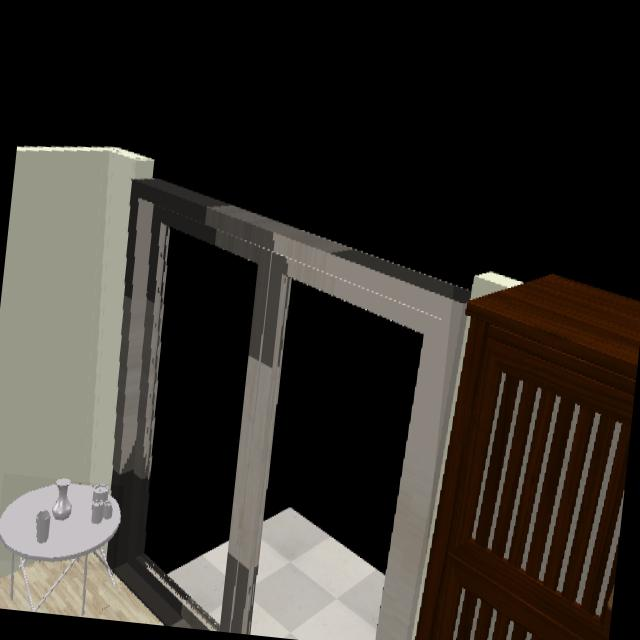table: (0, 479, 121, 565)
wardrobe: (417, 276, 640, 640)
